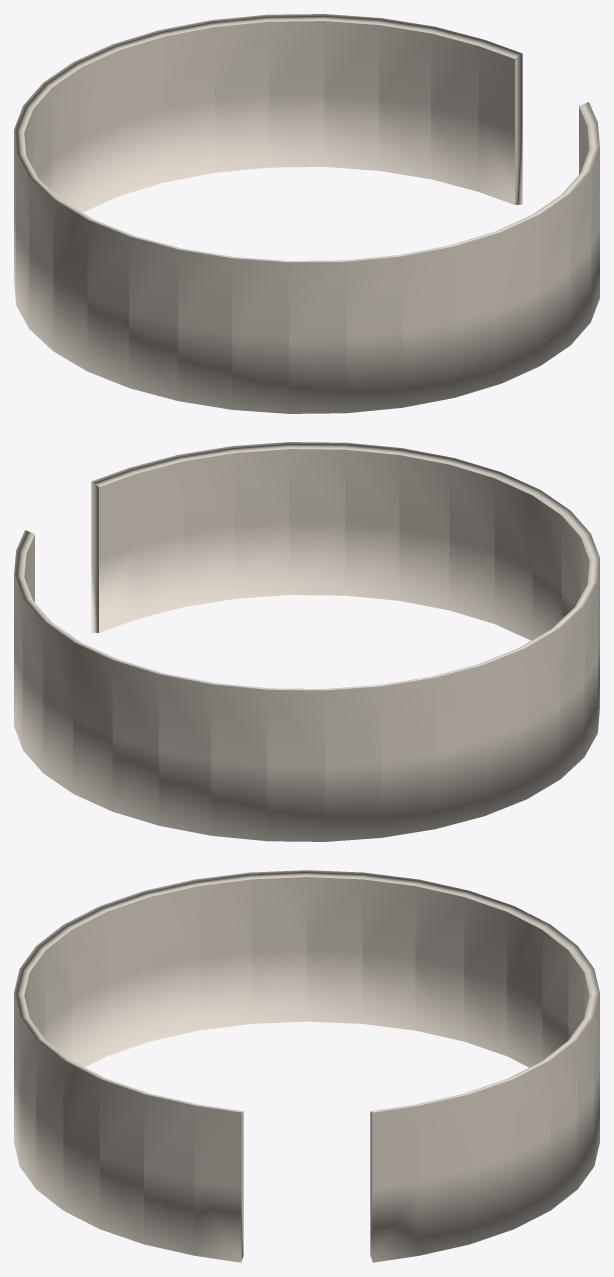
The model's file is yurte_colider_walls_half03.fbx.
The picture shows the model from 3 angles, top to bottom: view 1: azimuth 30°, elevation 25°; view 2: azimuth 150°, elevation 25°; view 3: azimuth 270°, elevation 25°; orthographic projection.
Visible parts, largest first — view 1: polySurface35, polySurface77, polySurface69, polySurface74, polySurface68, polySurface73, polySurface36, polySurface76, polySurface34, polySurface78, polySurface70, polySurface67 (+3 smaller); view 2: polySurface78, polySurface34, polySurface72, polySurface67, polySurface73, polySurface68, polySurface79, polySurface33, polySurface77, polySurface35, polySurface70, polySurface74 (+3 smaller); view 3: polySurface70, polySurface36, polySurface79, polySurface33, polySurface76, polySurface67, polySurface74, polySurface69, polySurface72, polySurface34, polySurface77, polySurface35 (+3 smaller).
Boxes of the visible parts, x1=… form: polySurface35: x1=289, y1=255, x2=402, y2=413; polySurface77: x1=211, y1=14, x2=324, y2=172; polySurface69: x1=178, y1=248, x2=289, y2=413; polySurface74: x1=324, y1=14, x2=435, y2=179; polySurface68: x1=399, y1=232, x2=501, y2=407; polySurface73: x1=113, y1=20, x2=214, y2=195; polySurface36: x1=87, y1=220, x2=181, y2=400; polySurface76: x1=431, y1=27, x2=522, y2=204; polySurface34: x1=495, y1=194, x2=570, y2=383; polySurface78: x1=43, y1=44, x2=119, y2=212; polySurface70: x1=29, y1=178, x2=94, y2=370; polySurface67: x1=562, y1=147, x2=599, y2=344; polySurface78: x1=211, y1=683, x2=324, y2=841; polySurface34: x1=289, y1=442, x2=402, y2=600; polySurface72: x1=324, y1=676, x2=435, y2=841; polySurface67: x1=178, y1=442, x2=289, y2=607; polySurface73: x1=112, y1=660, x2=214, y2=835; polySurface68: x1=399, y1=448, x2=500, y2=623; polySurface79: x1=432, y1=648, x2=526, y2=828; polySurface33: x1=91, y1=455, x2=182, y2=632; polySurface77: x1=43, y1=622, x2=118, y2=811; polySurface35: x1=494, y1=472, x2=570, y2=640; polySurface70: x1=519, y1=606, x2=584, y2=798; polySurface74: x1=14, y1=575, x2=51, y2=772; polySurface70: x1=250, y1=870, x2=363, y2=1023; polySurface36: x1=144, y1=872, x2=251, y2=1041; polySurface79: x1=362, y1=872, x2=469, y2=1041; polySurface33: x1=144, y1=1093, x2=243, y2=1262; polySurface76: x1=370, y1=1093, x2=469, y2=1262; polySurface67: x1=63, y1=1061, x2=148, y2=1244; polySurface74: x1=465, y1=1061, x2=550, y2=1244; polySurface69: x1=63, y1=891, x2=149, y2=1067; polySurface72: x1=464, y1=891, x2=550, y2=1067; polySurface34: x1=19, y1=1017, x2=71, y2=1210; polySurface77: x1=542, y1=1017, x2=594, y2=1210; polySurface35: x1=20, y1=924, x2=71, y2=1060.
Size of the model in its own units: 22.88 by 6.58 by 23.33.
